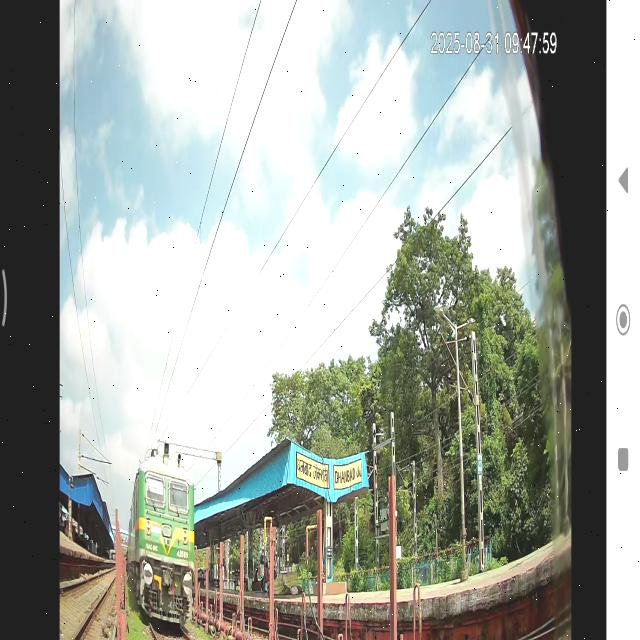engine: (120, 406, 216, 640)
